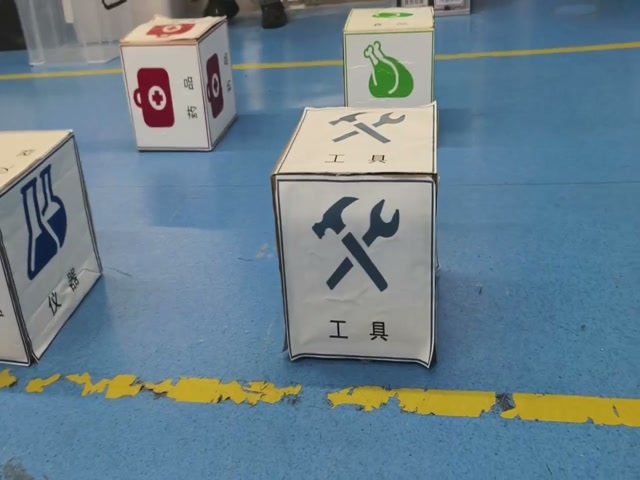Cube_food: (343, 7, 431, 33)
Cube_ins: (0, 123, 74, 203)
Cube_medicine: (119, 15, 229, 44)
Cube_tool: (271, 102, 440, 186)
